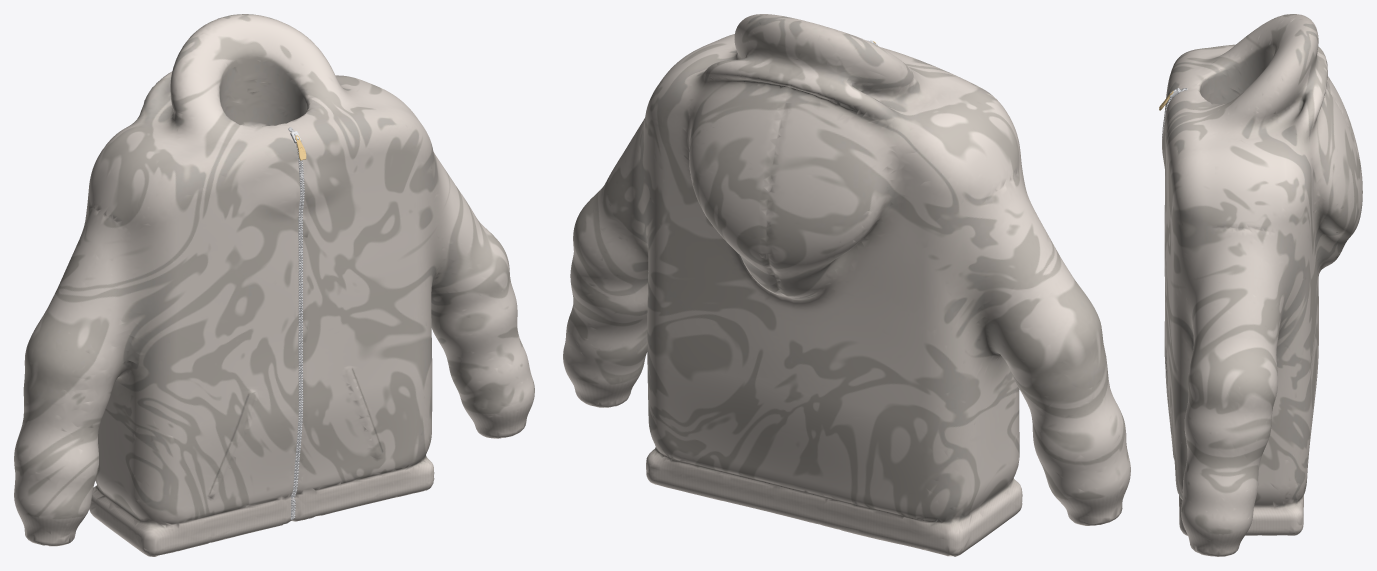
The model's file is ressac-ivory-tide.glb.
3 views of the same model, side by side, from view 1: azimuth 30°, elevation 25°; view 2: azimuth 150°, elevation 25°; view 3: azimuth 270°, elevation 25° (orthographic). The views are drawn at different scales.
Parts seen in each view (by area): view 1: KYMA Ressac — Ivory Tide (visuel de présentation 3D); view 2: KYMA Ressac — Ivory Tide (visuel de présentation 3D); view 3: KYMA Ressac — Ivory Tide (visuel de présentation 3D).
Boxes of the visible parts, bbox=[...] form: KYMA Ressac — Ivory Tide (visuel de présentation 3D): bbox=[14, 14, 534, 556]; KYMA Ressac — Ivory Tide (visuel de présentation 3D): bbox=[563, 14, 1130, 556]; KYMA Ressac — Ivory Tide (visuel de présentation 3D): bbox=[1159, 14, 1362, 556].
Size of the model in its own units: 1.04 by 0.8959 by 0.3715.
3 materials, 1 textured.
